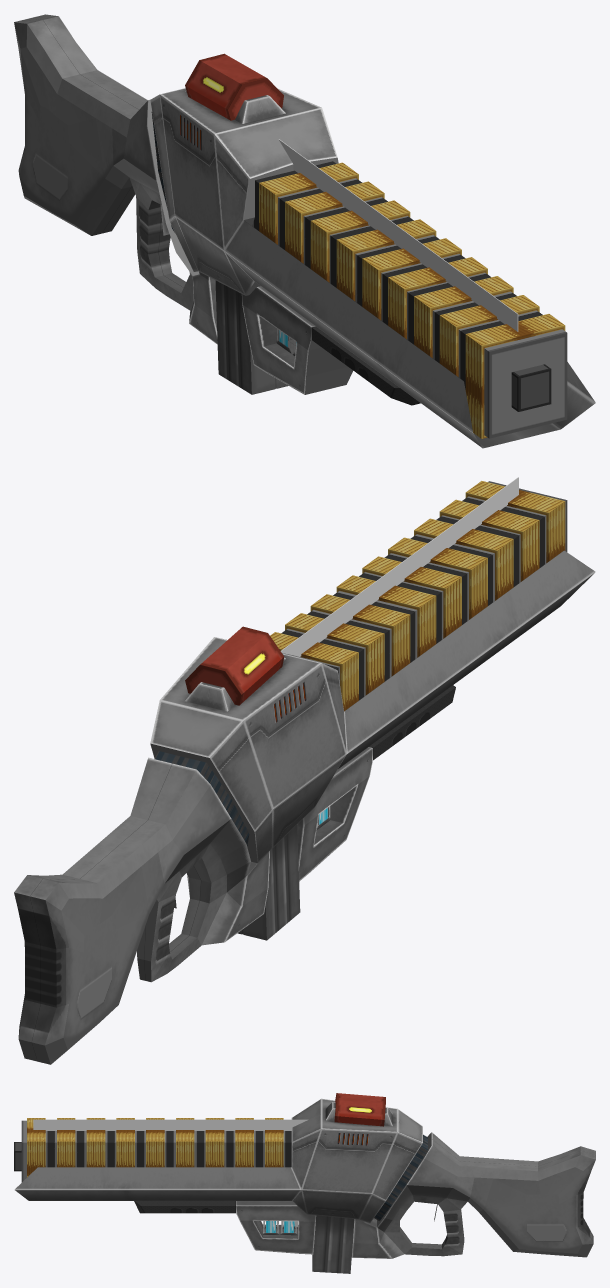
File: FPSPacMan - Railgun - Merged.fbx
The picture shows the model from 3 angles, top to bottom: view 1: azimuth 30°, elevation 25°; view 2: azimuth 150°, elevation 25°; view 3: azimuth 270°, elevation 25°; orthographic projection. The views are drawn at different scales.
Visible parts, largest first — view 1: Railgun - Merged; view 2: Railgun - Merged; view 3: Railgun - Merged.
Boxes of the visible parts, x1,y1,x2,y2 form: Railgun - Merged: (14, 14, 595, 448); Railgun - Merged: (14, 477, 595, 1064); Railgun - Merged: (14, 1093, 595, 1273).
Size of the model in its own units: 74.77 by 172 by 533.
